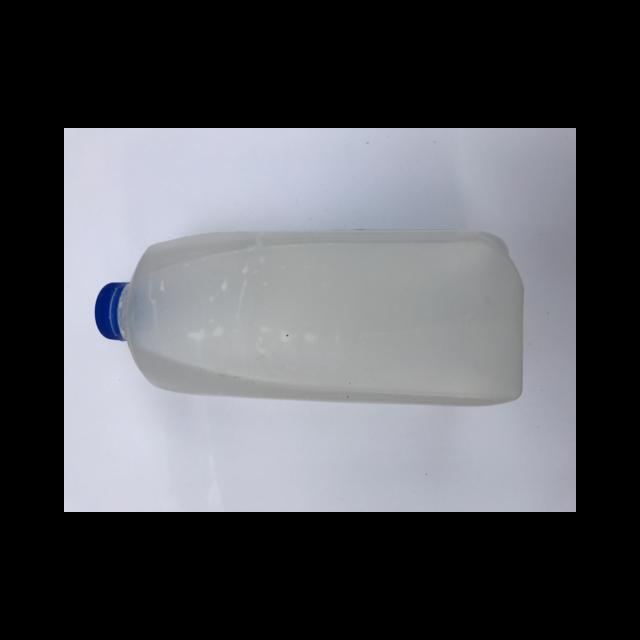plastic: (95, 230, 523, 405), (94, 281, 125, 341)
